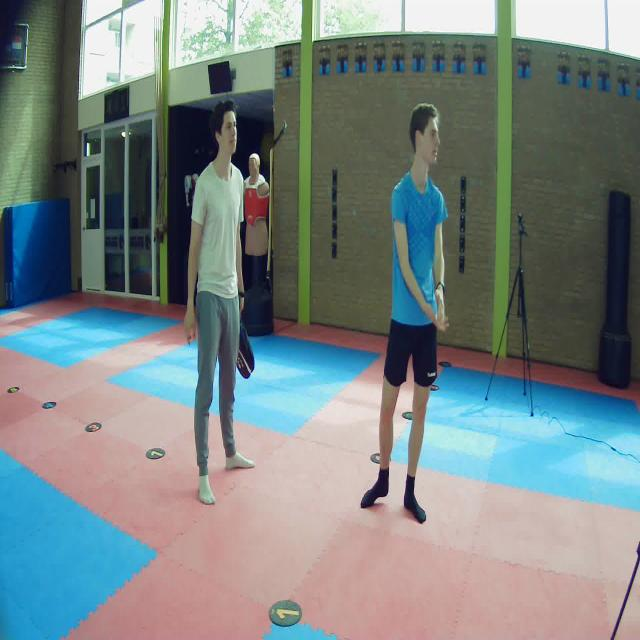paddle: (236, 312, 255, 378)
